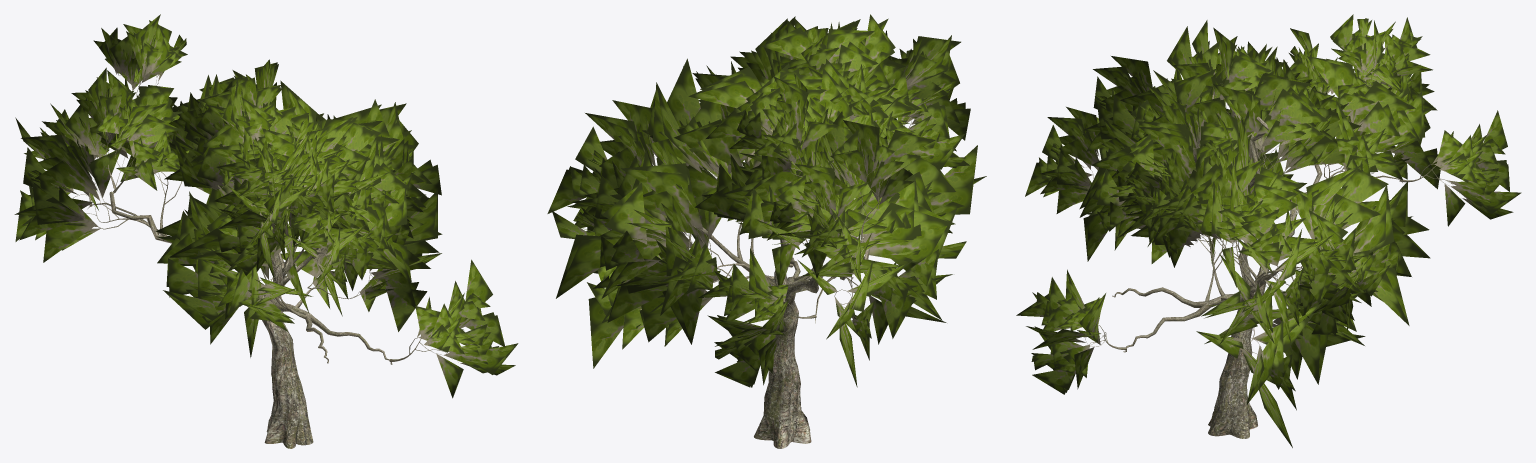
Rendered from oak14.obj.
The picture shows the model from 3 angles, left to right: view 1: azimuth 30°, elevation 25°; view 2: azimuth 150°, elevation 25°; view 3: azimuth 270°, elevation 25°; orthographic projection. The views are drawn at different scales.
Parts seen in each view (by area): view 1: oak leaf, mossybark03; view 2: oak leaf, mossybark03; view 3: oak leaf, mossybark03.
Part boxes in pixels (bbox=[...]): oak leaf: bbox=[14, 14, 518, 398]; mossybark03: bbox=[72, 74, 458, 448]; oak leaf: bbox=[547, 14, 986, 387]; mossybark03: bbox=[607, 103, 912, 448]; oak leaf: bbox=[1016, 14, 1521, 447]; mossybark03: bbox=[1083, 67, 1459, 438].
Size of the model in its own units: 839 by 800 by 960.
2 materials, 2 textured.
